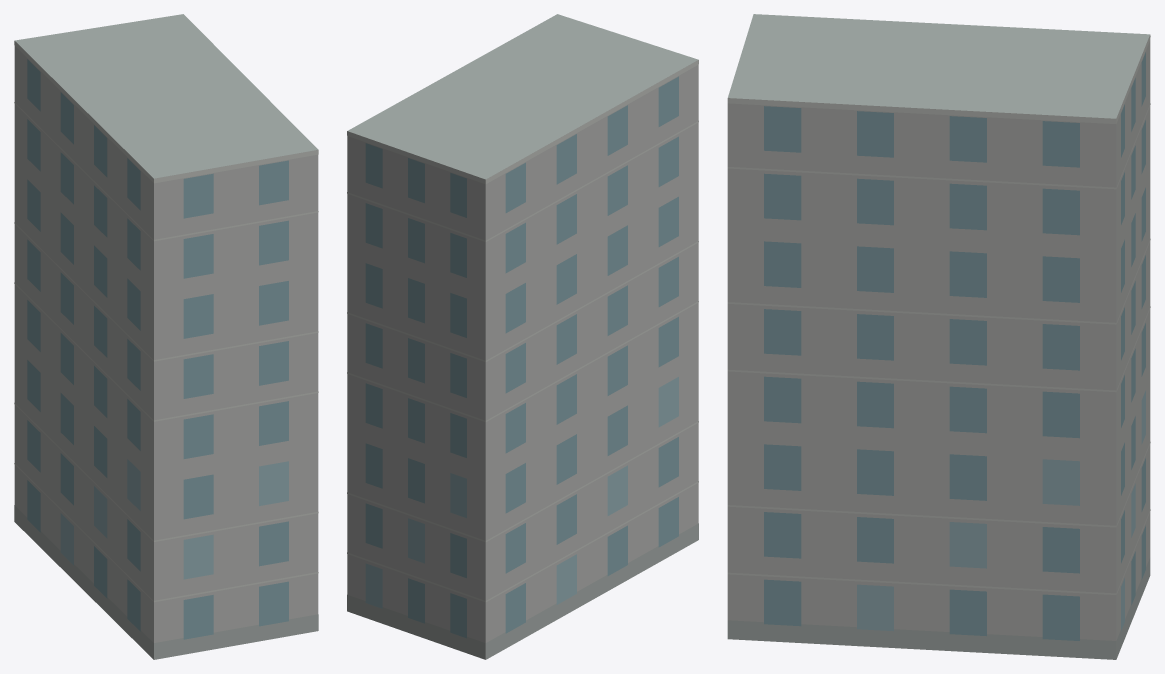
File: survey-upis-32571848.glb
3 views of the same model, side by side, from view 1: azimuth 30°, elevation 25°; view 2: azimuth 150°, elevation 25°; view 3: azimuth 270°, elevation 25° (orthographic). The views are drawn at different scales.
Visible parts, largest first — view 1: survey-upis-32571848.tmp; view 2: survey-upis-32571848.tmp; view 3: survey-upis-32571848.tmp.
Boxes of the visible parts, box(x1,y1,x2,y2) form: survey-upis-32571848.tmp: box(14, 14, 318, 659); survey-upis-32571848.tmp: box(347, 14, 698, 659); survey-upis-32571848.tmp: box(727, 14, 1150, 659).
Size of the model in its own units: 10.16 by 24.4 by 17.3.
